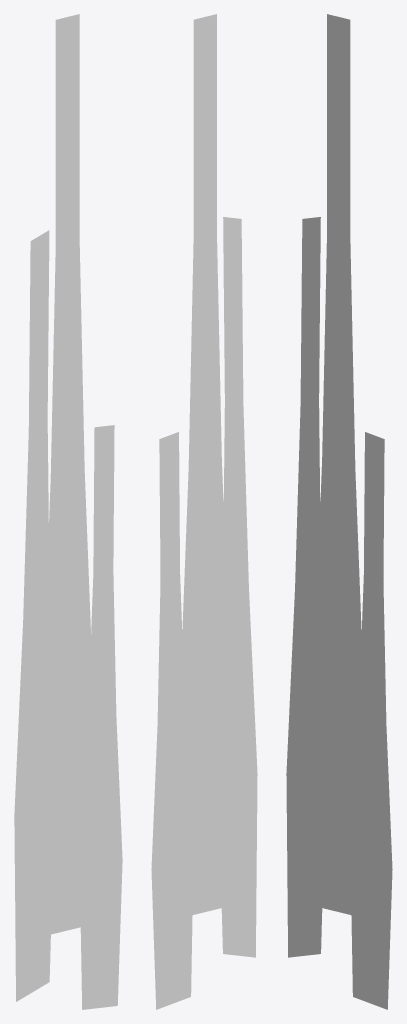
File: smokeWisp.fbx
3 views of the same model, side by side, from view 1: azimuth 30°, elevation 25°; view 2: azimuth 210°, elevation 25°; view 3: azimuth 330°, elevation 25° (orthographic). The views are drawn at different scales.
Parts seen in each view (by area): view 1: smokeWisp, smokeWisp1, smokeWisp2; view 2: smokeWisp, smokeWisp1, smokeWisp2; view 3: smokeWisp, smokeWisp1, smokeWisp2.
Part boxes in pixels (x1,y1,x2,y2): smokeWisp: [44, 14, 93, 935]; smokeWisp1: [14, 230, 54, 1001]; smokeWisp2: [79, 425, 122, 1009]; smokeWisp: [182, 14, 230, 914]; smokeWisp1: [217, 217, 257, 957]; smokeWisp2: [151, 432, 193, 1009]; smokeWisp: [313, 14, 361, 916]; smokeWisp1: [286, 217, 325, 957]; smokeWisp2: [350, 432, 392, 1009].
Bounding box in the file's own units: 148 × 1309 × 0.000213.
Materials: 1 (1 with a texture image).
